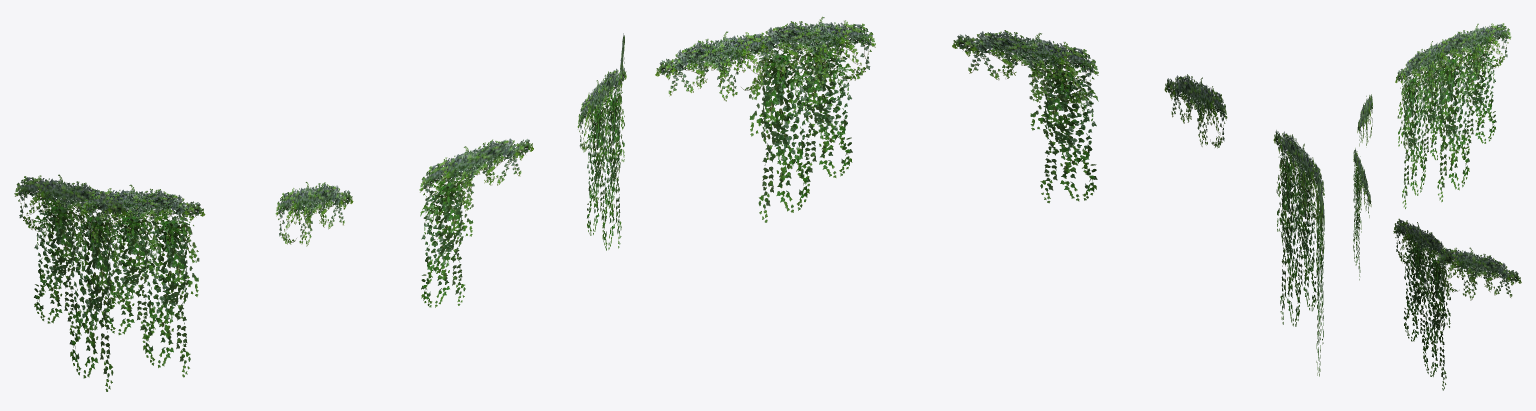
File: WelcomeHUbIvyPlants.fbx
The picture shows the model from 3 angles, left to right: view 1: azimuth 30°, elevation 25°; view 2: azimuth 150°, elevation 25°; view 3: azimuth 270°, elevation 25°; orthographic projection. The views are drawn at different scales.
Visible parts, largest first — view 1: Ivy; view 2: Ivy; view 3: Ivy.
Part boxes in pixels (box(x1,y1,x2,y2)): Ivy: box(14, 33, 626, 391); Ivy: box(655, 16, 1324, 376); Ivy: box(1353, 23, 1521, 390).
Size of the model in its own units: 1783 by 577 by 521.
